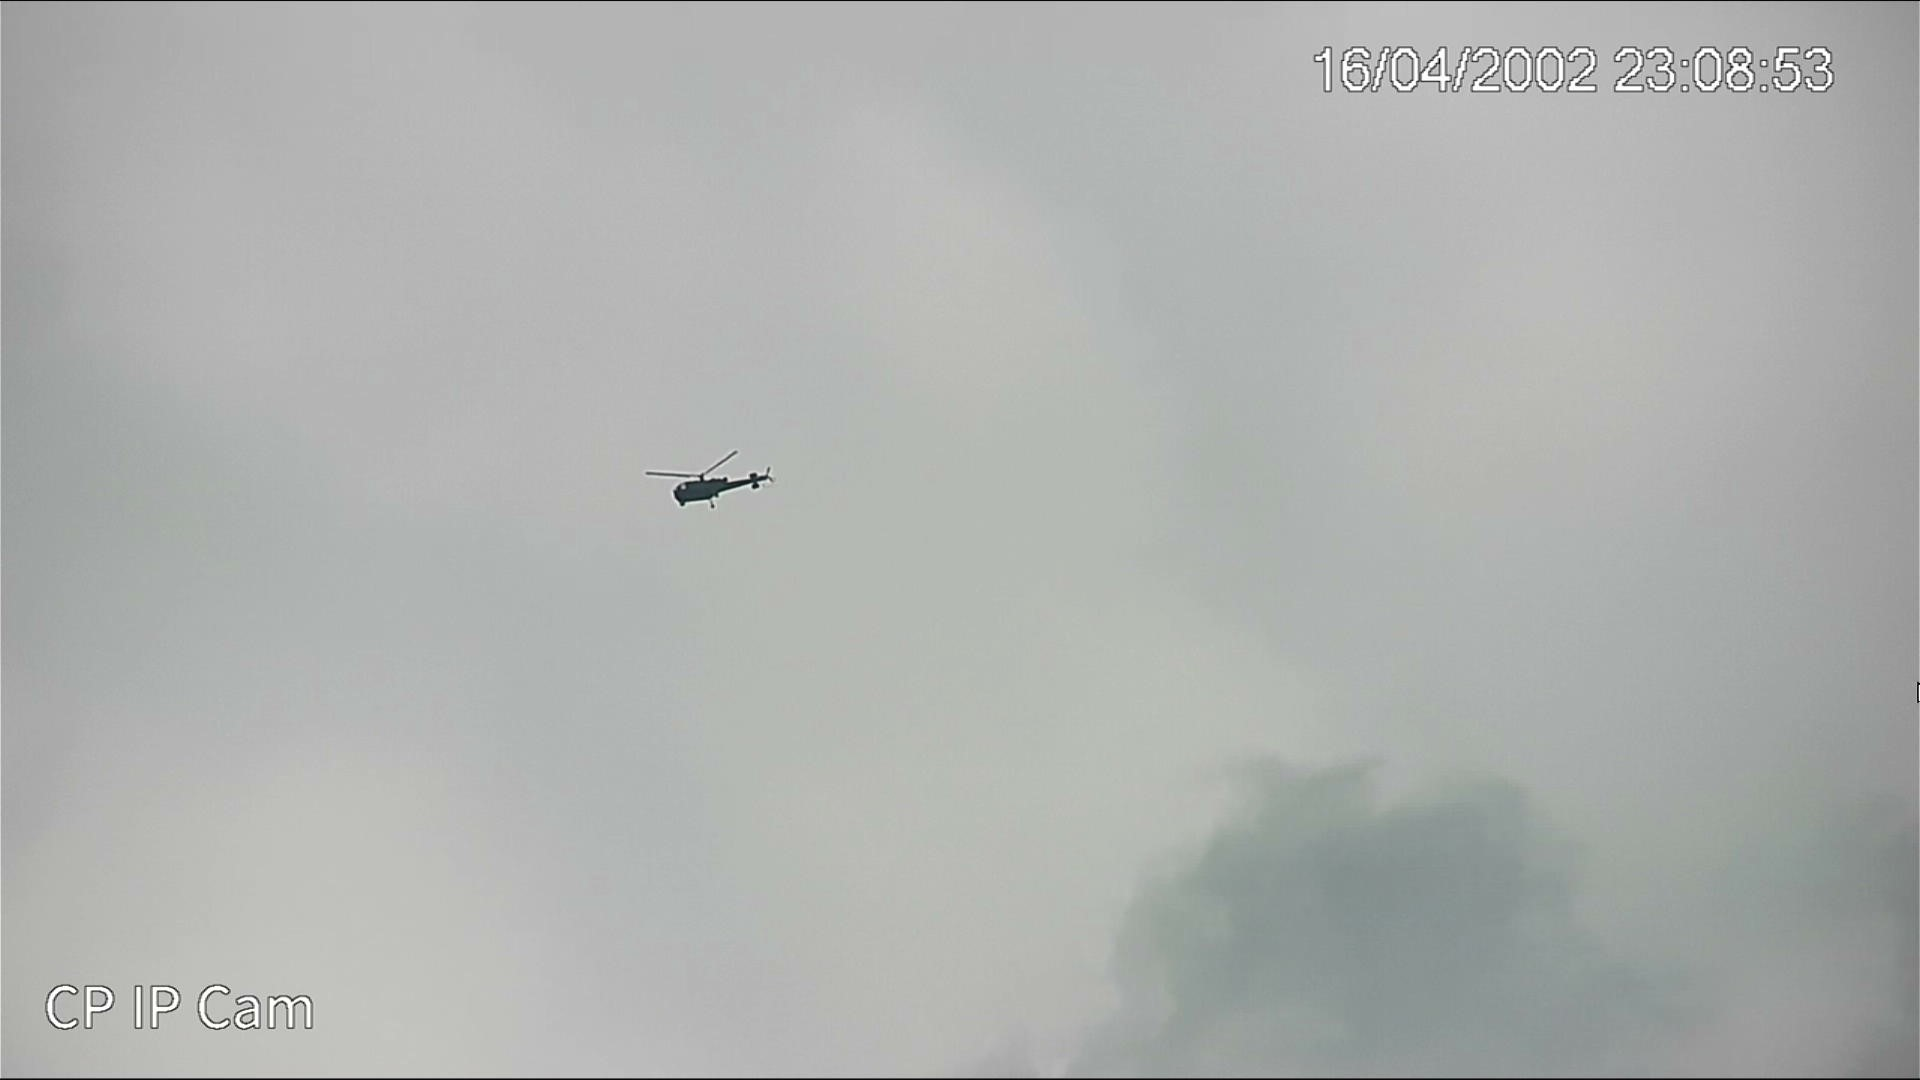SU_30: (666, 460, 779, 513)
